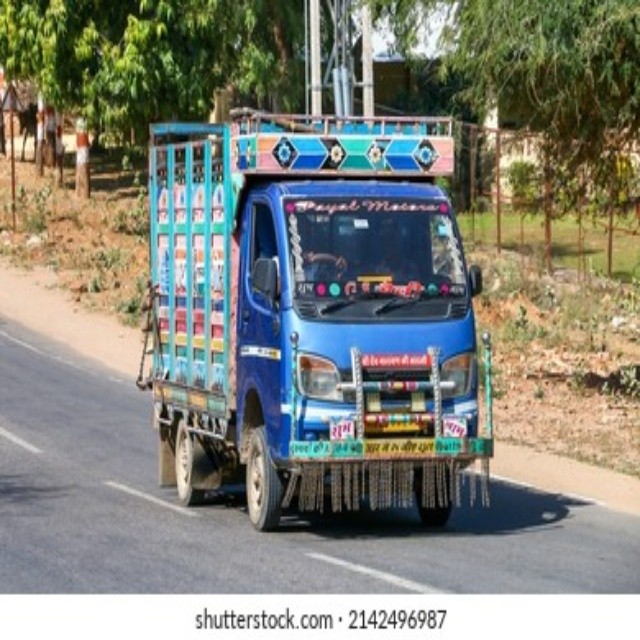Truck: (146, 107, 494, 533)
